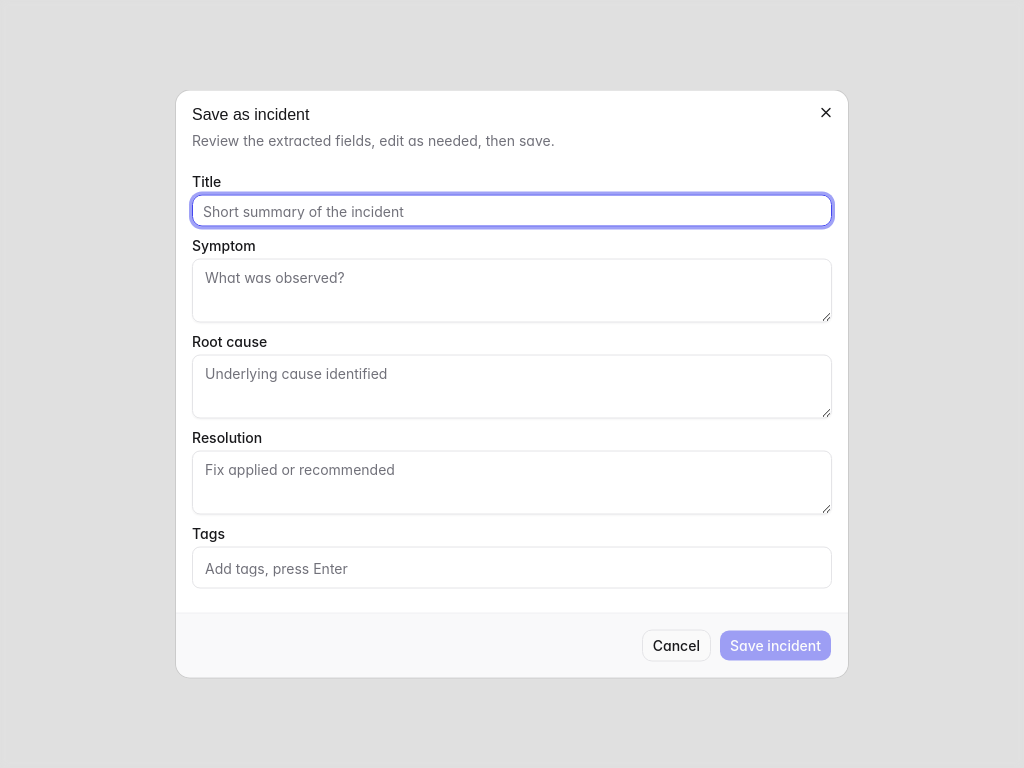
Test case: SaveAsIncidentDialog › offers typeahead tag suggestions when they match the draft
Type "mig" into the field with test id "incident-tag-input" at x=512, y=568, box [201, 554, 823, 582]
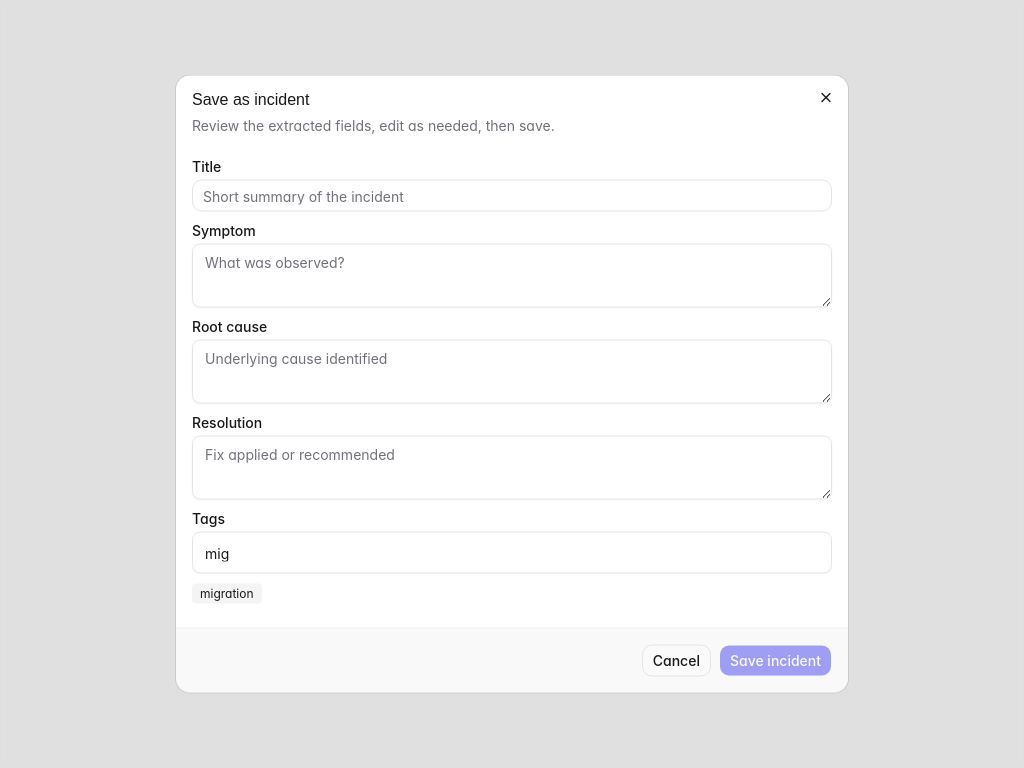
Now the element with test id "incident-tag-suggestions" reads "migration", box [192, 584, 262, 604]
